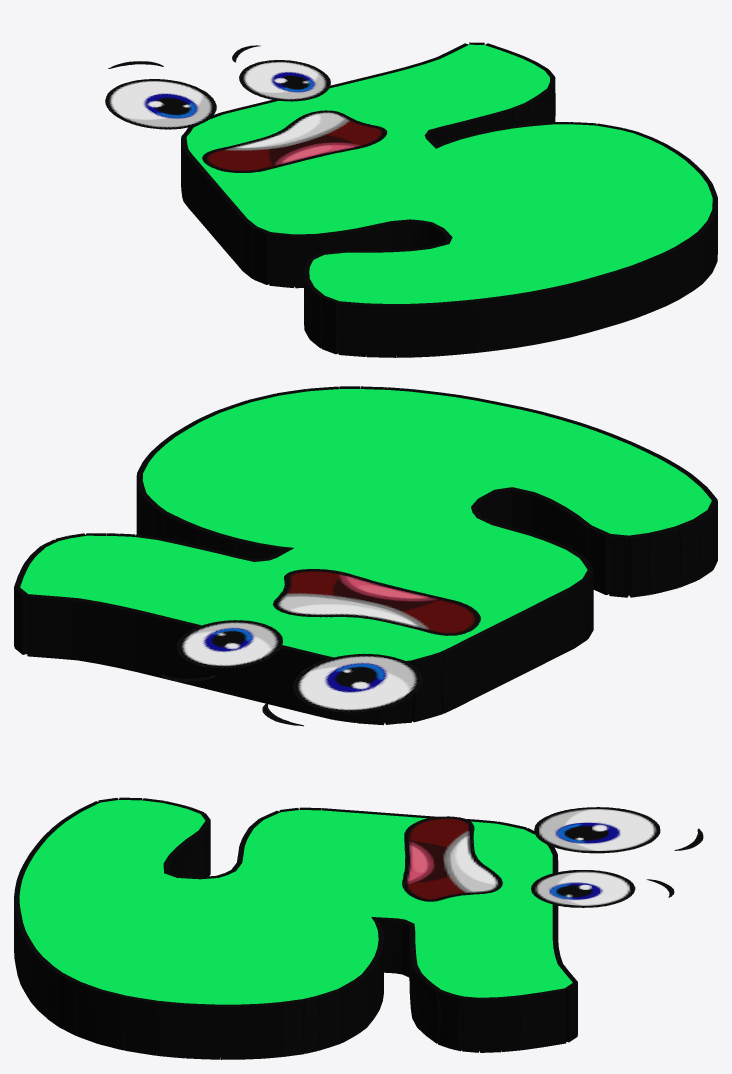
Rendered from number 5 .fbx.
The picture shows the model from 3 angles, top to bottom: view 1: azimuth 30°, elevation 25°; view 2: azimuth 150°, elevation 25°; view 3: azimuth 270°, elevation 25°; orthographic projection. The views are drawn at different scales.
Parts seen in each view (by area): view 1: Plane.004; view 2: Plane.004; view 3: Plane.004.
Part boxes in pixels (x1,y1,x2,y2): Plane.004: [105, 42, 717, 357]; Plane.004: [14, 386, 717, 726]; Plane.004: [14, 797, 703, 1059].
Size of the model in its own units: 57.04 by 6.92 by 77.27.
3 materials, 1 textured.
